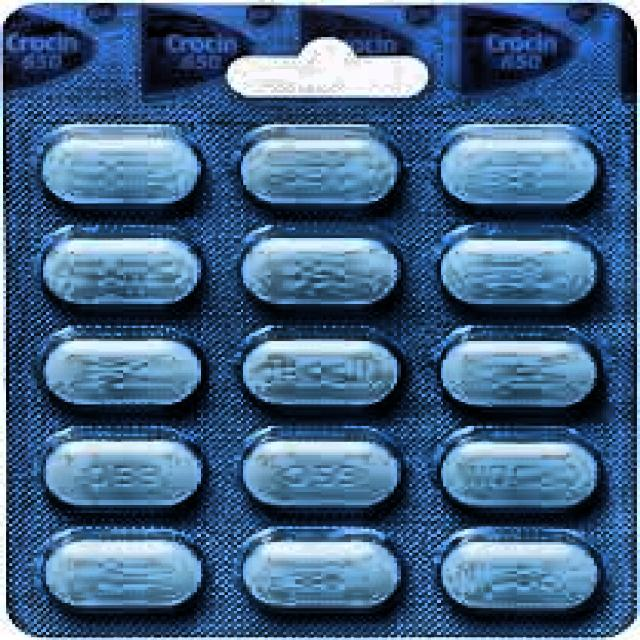Crocin: (2, 10, 633, 126)
